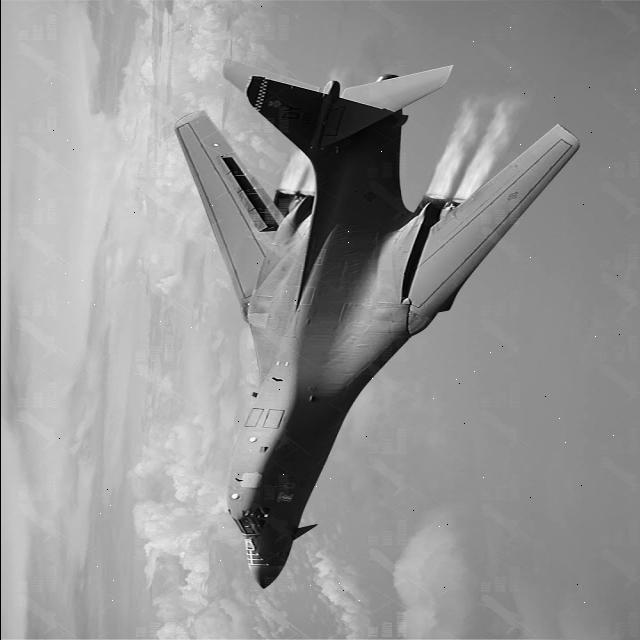B1: (139, 28, 609, 604)
